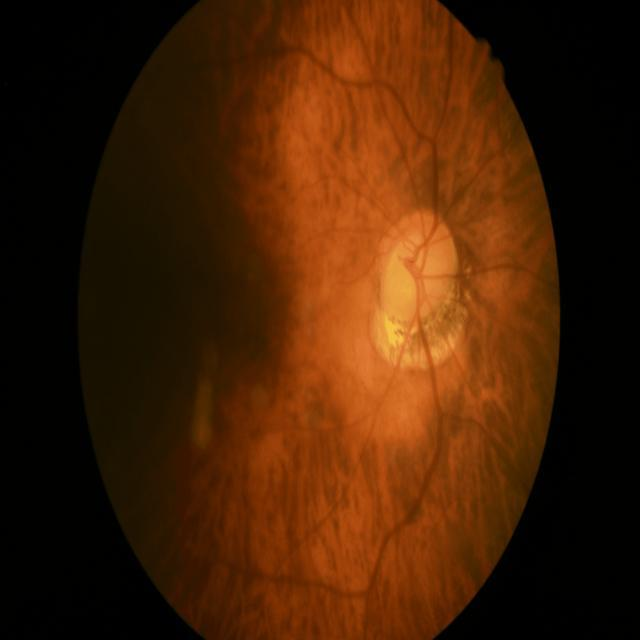cup: (386, 231, 450, 313)
disk: (380, 208, 460, 322)
